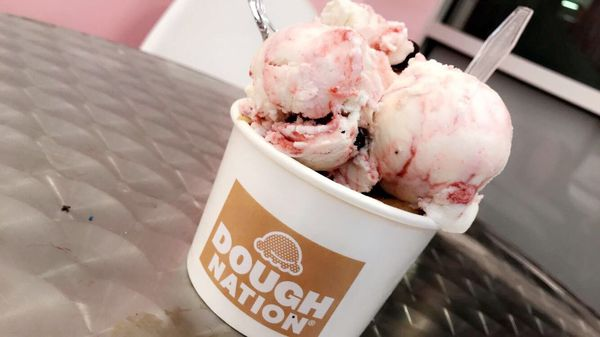curry: (2, 8, 590, 333)
